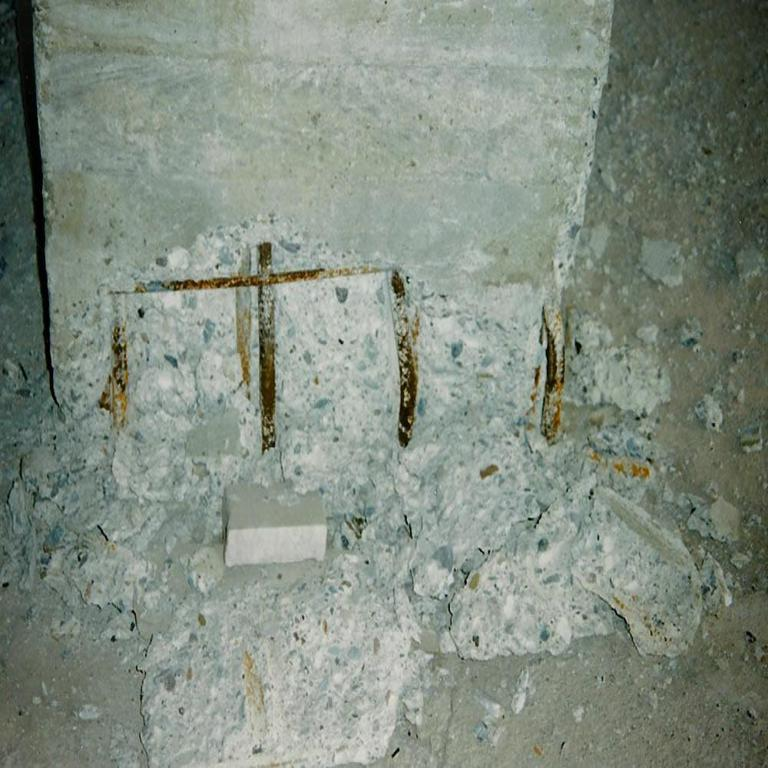exposed_rebar: (134, 242, 418, 450), (542, 306, 566, 442), (99, 321, 129, 428)
spalling: (0, 30, 750, 766)
